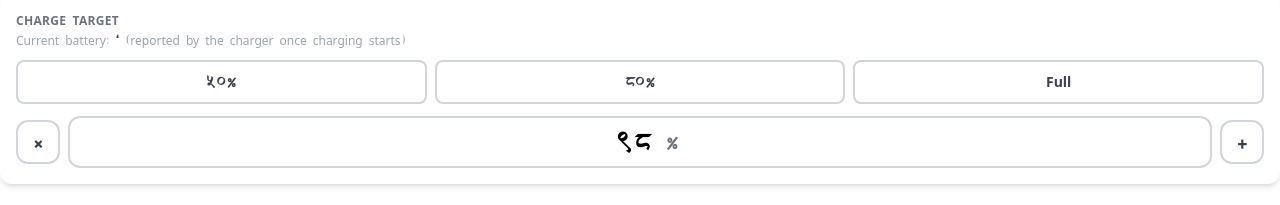
it: ChargeTargetCard › clamps the stepper at 100
The width and height of the screenshot is (1280, 205).
Click the button named "Increase target by 5%".
click(1242, 142)  # box [1220,120,1264,164]
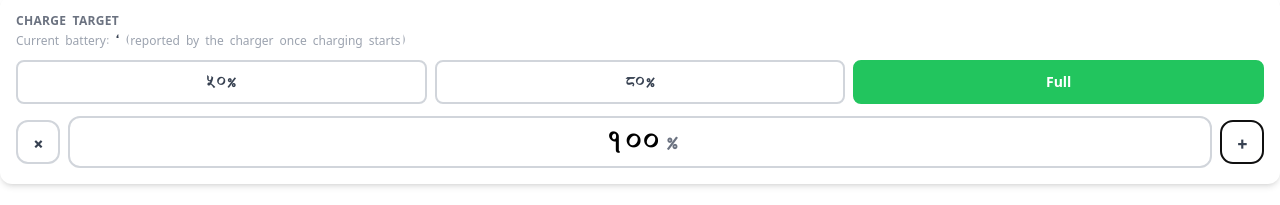
Check: the number field named "Target battery %" holds "100", box [601,126,665,158]
